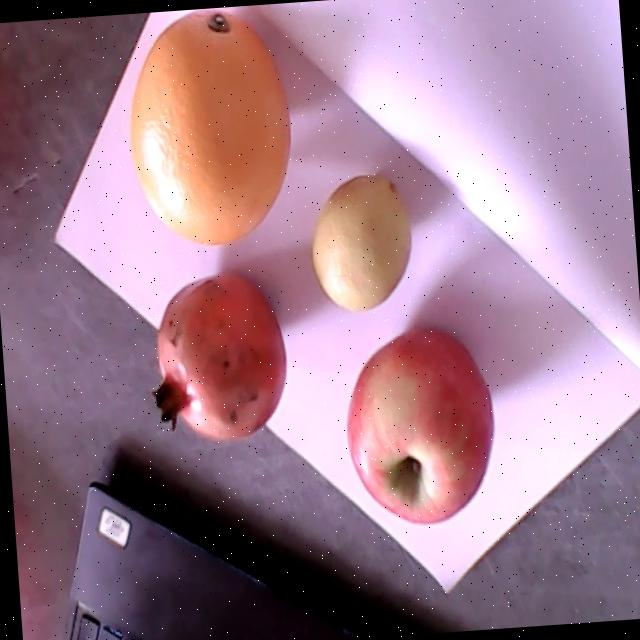apple: (345, 325, 494, 525)
lemon: (310, 174, 410, 309)
orange: (130, 7, 288, 246)
pomegranate: (149, 272, 285, 442)
